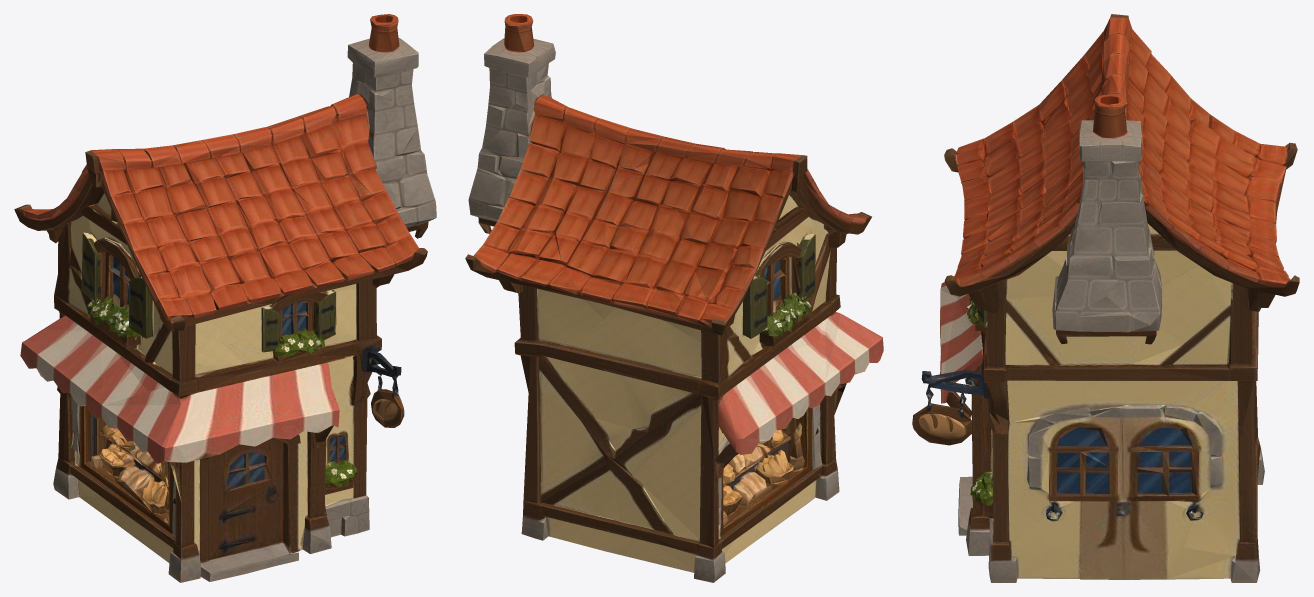
The model's file is town-bakery-a-game.glb.
3 renders of one model, left to right at view 1: azimuth 30°, elevation 25°; view 2: azimuth 150°, elevation 25°; view 3: azimuth 270°, elevation 25°, orthographic. The views are drawn at different scales.
Parts seen in each view (by area): view 1: output_unwrapped; view 2: output_unwrapped; view 3: output_unwrapped.
Part boxes in pixels (<box>): output_unwrapped: <box>14,14,436,582</box>; output_unwrapped: <box>465,14,883,582</box>; output_unwrapped: <box>912,14,1299,582</box>.
Bounding box in the file's own units: 1.42 × 1.9 × 1.28.
Materials: 1 (1 with a texture image).
